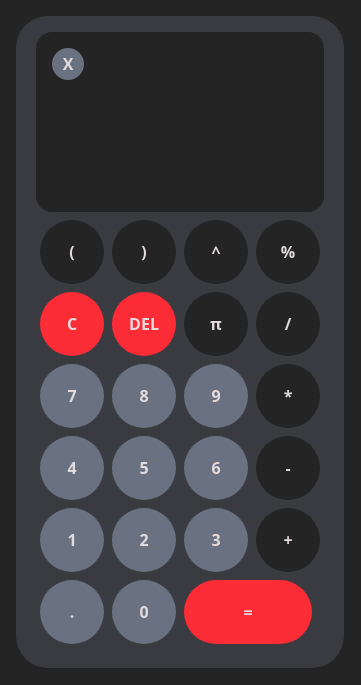
Test: Clear and null error
This screenshot has width=361, height=685.
What coordinates should you click on to do the following:
click the button "0"
I would click on:
 (144, 612)
Its box is [112,580,176,644].
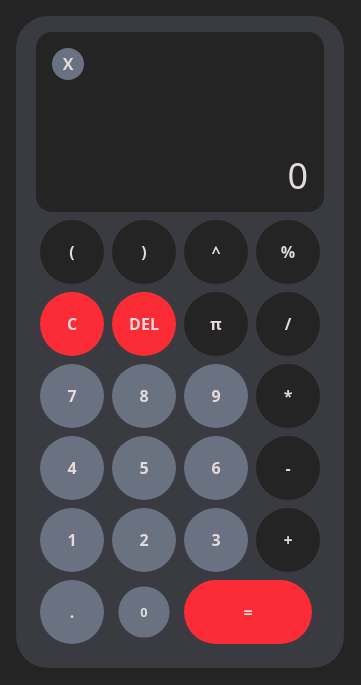
Expected: the text with test id "current-text" reads "0", [287,151,308,200]
What coordinates should you click on to do the following:
click the button "C"
I would click on:
 (72, 324)
Its box is [40,292,104,356].
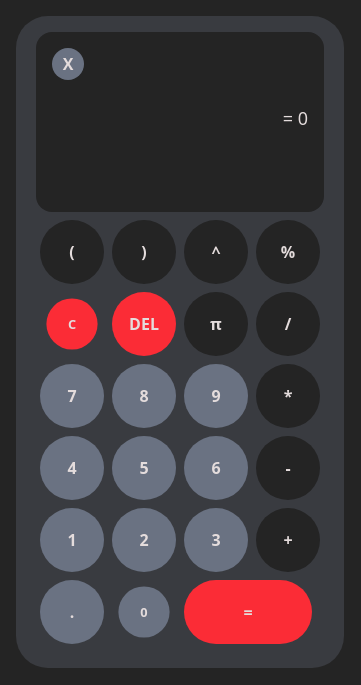
What coordinates should you click on to do the following:
click the button "="
I would click on:
 (248, 612)
Its box is [184,580,312,644].
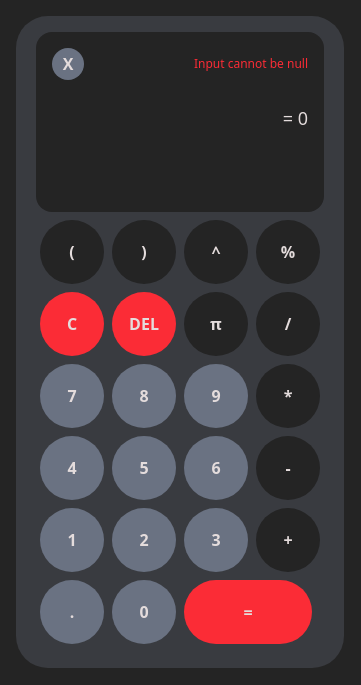
Expected: the text with test id "error-message" reads "Input cannot be null", [194,55,308,72]
